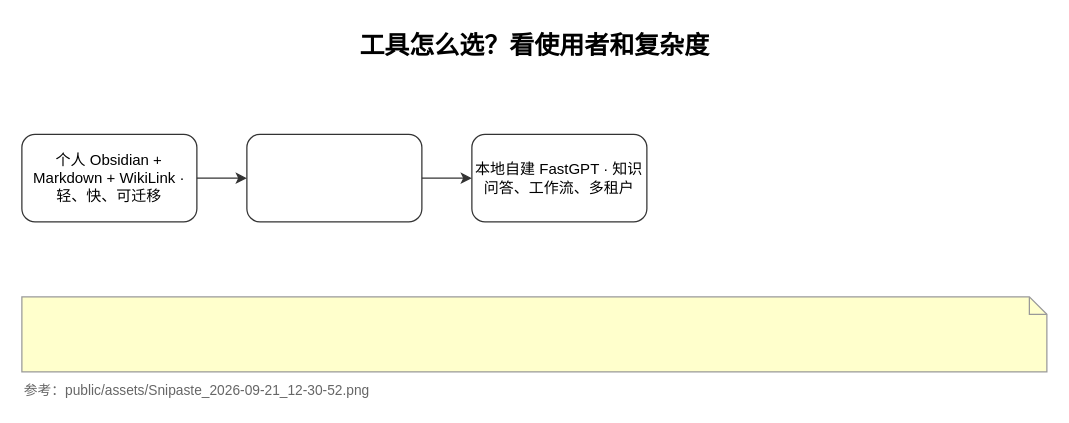
Image size: 1069x423. Some labels were removed from this diagram. The shapes that lost their labels are listed below. From the top down, each one's centre as x and y in pixels, then its label:
At (x=334, y=177): "团队 飞书云文档 + 知识库 + 多维表格 · 协作、权限、流程".
At (x=534, y=334): "先选够用的，不要为了「先进」把系统做重".
